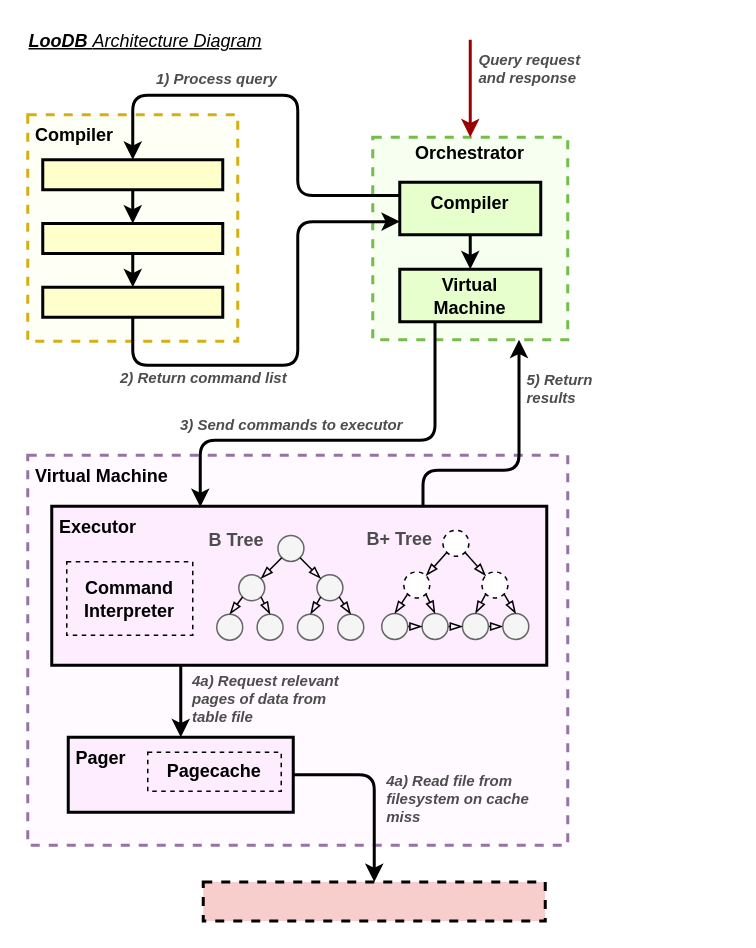
This 756x948 diagram has some shape labels left out. Each missing label, with the centre of its shape:
"Code Generator" belongs at point (132, 301).
"Host Filesystem" belongs at point (373, 901).
"Parser" belongs at point (132, 237).
"Tokenizer" belongs at point (132, 174).
